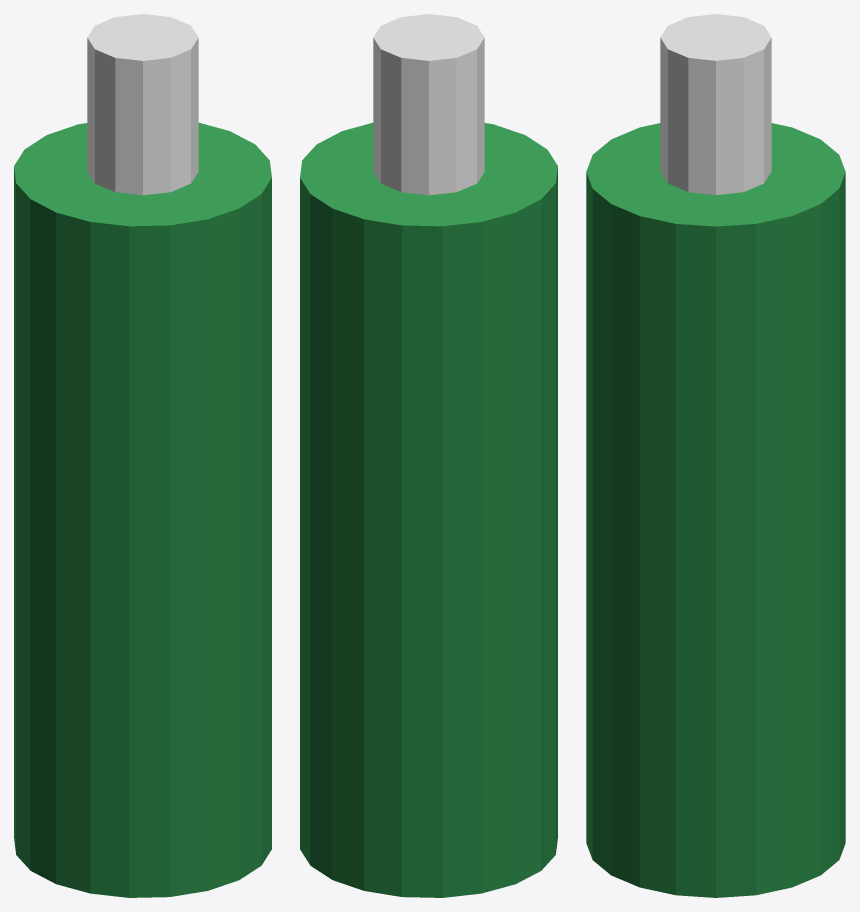
The model's file is botella.obj.
The picture shows the model from 3 angles, left to right: view 1: azimuth 30°, elevation 25°; view 2: azimuth 150°, elevation 25°; view 3: azimuth 270°, elevation 25°; orthographic projection.
Parts seen in each view (by area): view 1: botella; view 2: botella; view 3: botella.
Boxes of the visible parts, x1=… form: botella: x1=14, y1=14, x2=271, y2=897; botella: x1=300, y1=14, x2=557, y2=897; botella: x1=586, y1=14, x2=845, y2=897.
Size of the model in its own units: 0.07 by 0.24 by 0.07.
1 material, 1 textured.
